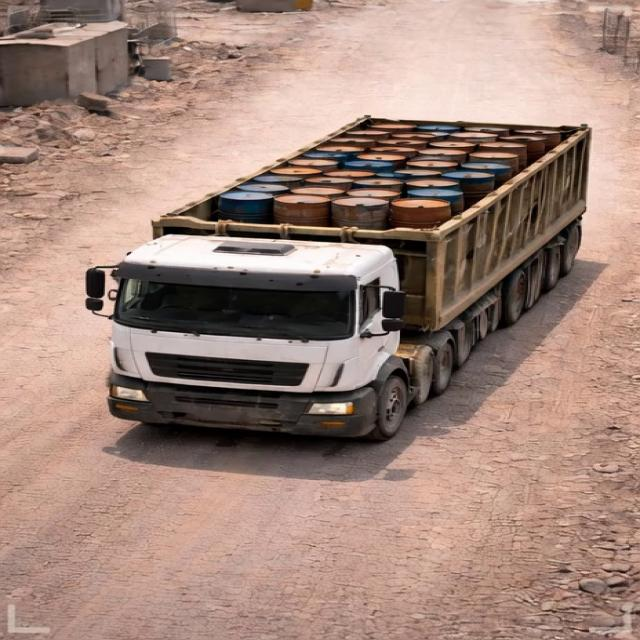trailer: (158, 112, 597, 248)
truck: (77, 85, 616, 446)
